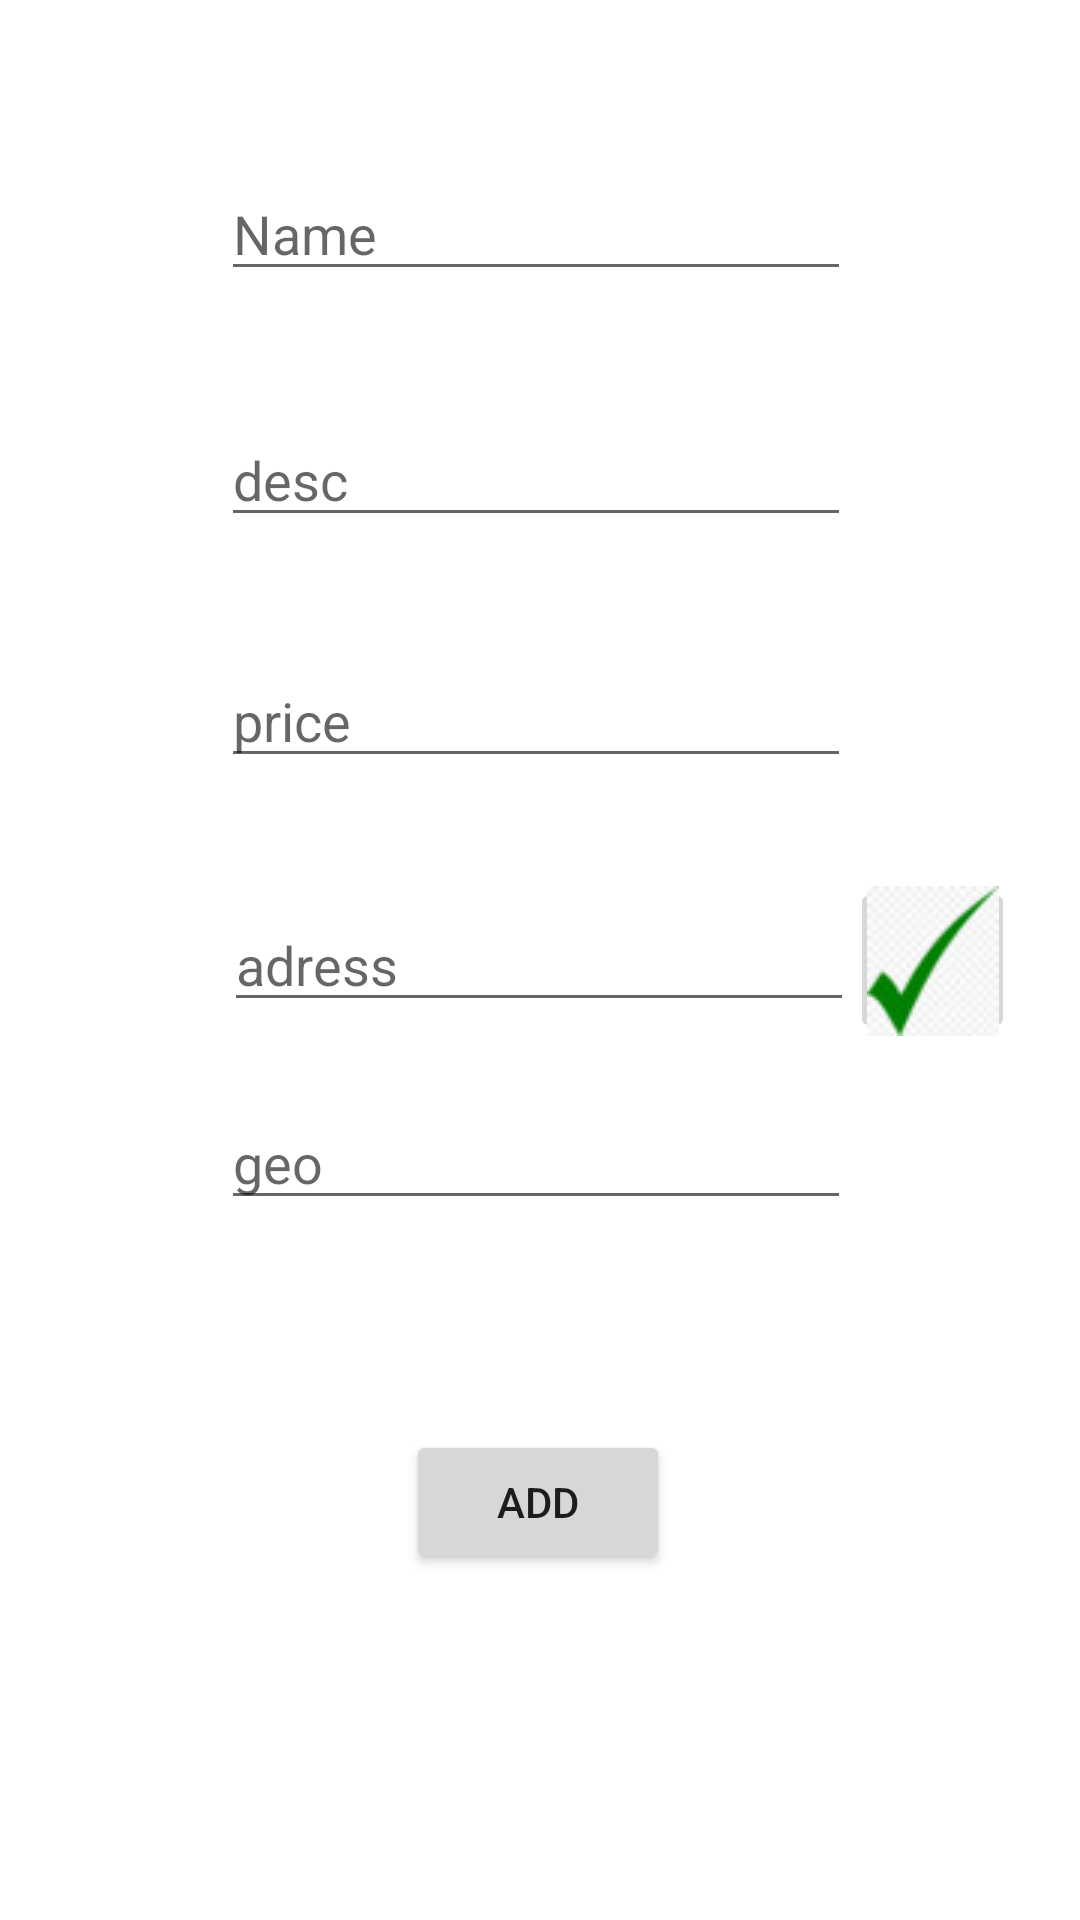

Locate icon controls on the screen. Image size 1080 x 1920, boxes as (x1, y1, x2, y2).
check: (862, 886, 1003, 1036)
